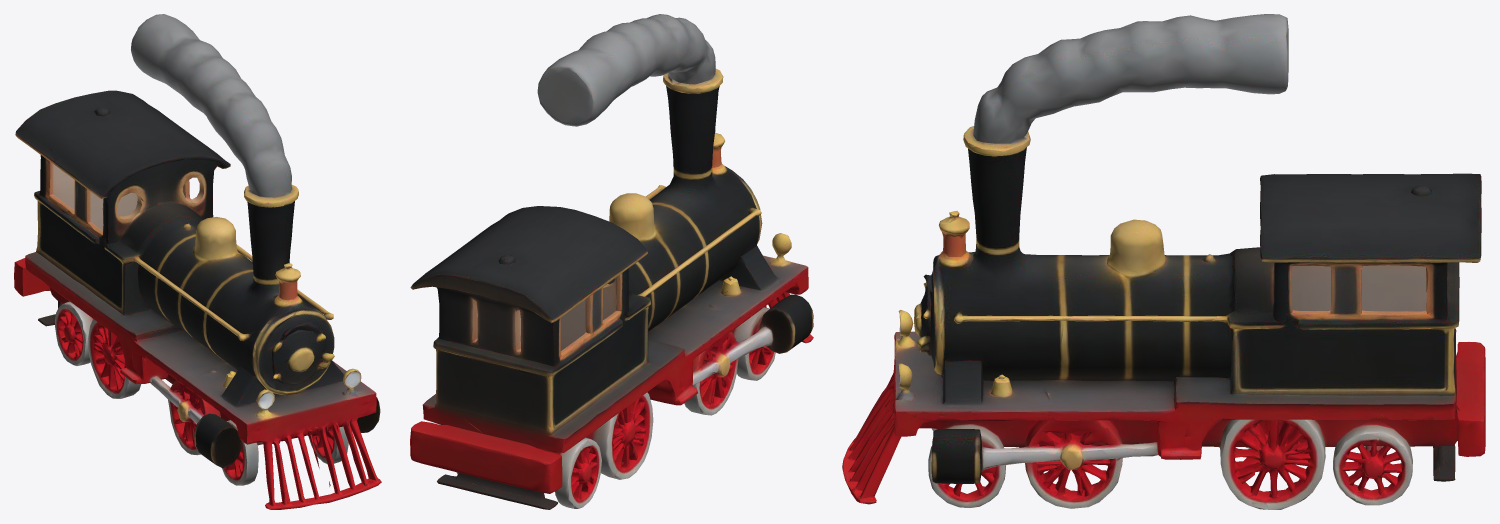
Rendered from locomotive.glb.
The picture shows the model from 3 angles, left to right: view 1: azimuth 30°, elevation 25°; view 2: azimuth 150°, elevation 25°; view 3: azimuth 270°, elevation 25°; orthographic projection. The views are drawn at different scales.
Visible parts, largest first — view 1: Mesh; view 2: Mesh; view 3: Mesh.
Part boxes in pixels (x1=…): Mesh: x1=14, y1=14, x2=381, y2=509; Mesh: x1=410, y1=14, x2=813, y2=509; Mesh: x1=842, y1=14, x2=1485, y2=509.
Size of the model in its own units: 0.7192 by 1.49 by 1.89.
1 material, 1 textured.
